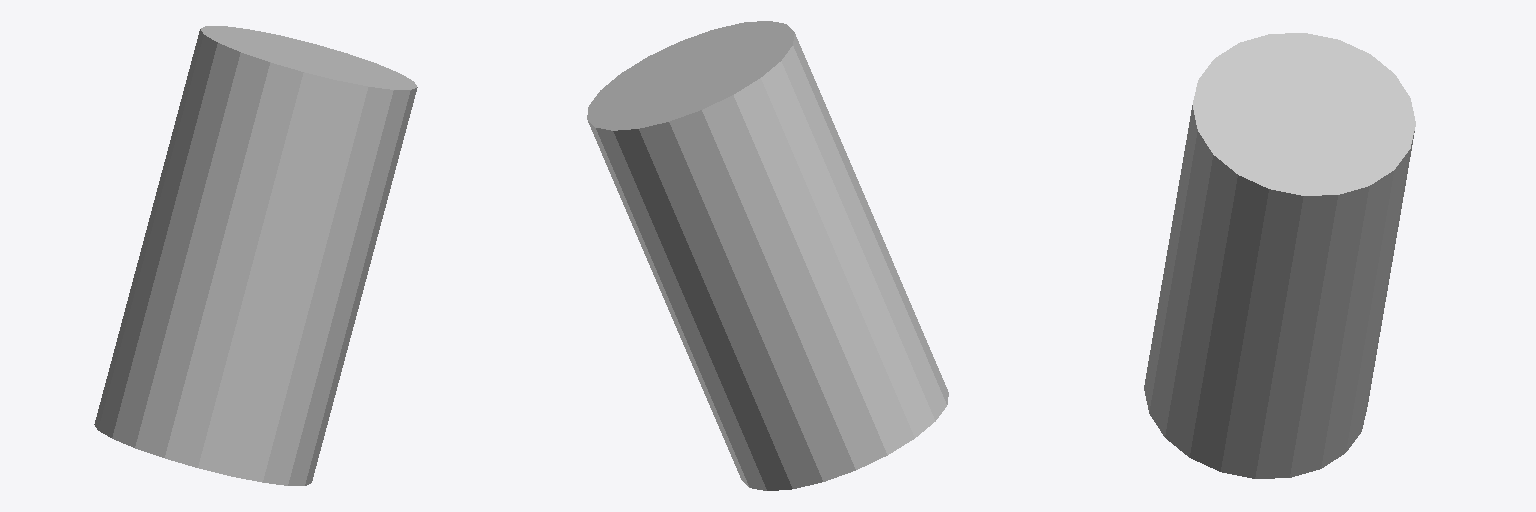
The model's file is 5midph_skin.obj.
The picture shows the model from 3 angles: view 1: azimuth 30°, elevation 25°; view 2: azimuth 150°, elevation 25°; view 3: azimuth 270°, elevation 25°; orthographic projection.
Size of the model in its own units: 0.0165 by 0.0214 by 0.0124.